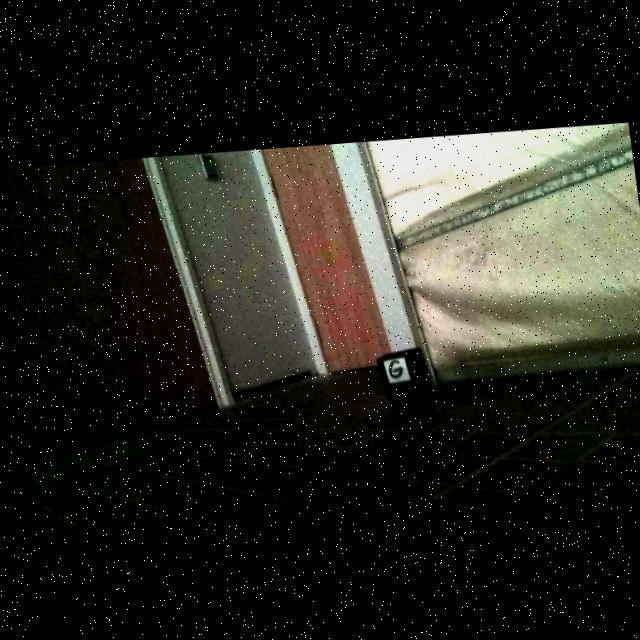G: (386, 359, 400, 378)
